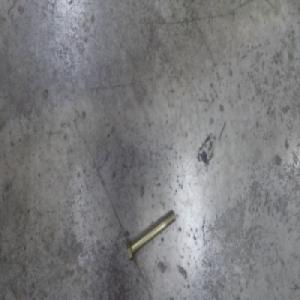Bolt: (126, 207, 176, 264)
